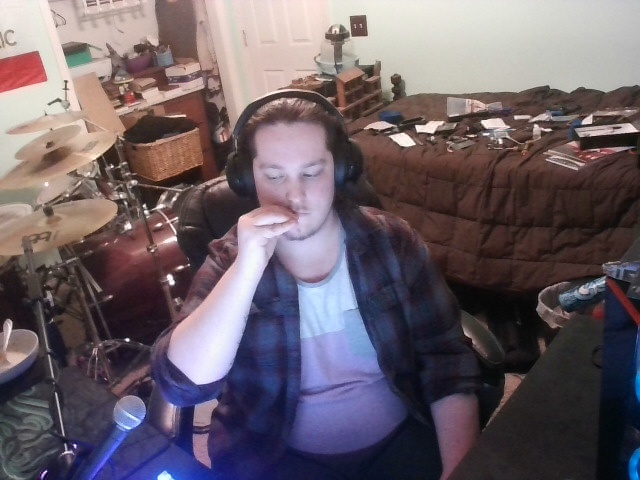eat: (222, 204, 307, 263)
